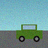vehicle: (16, 24, 42, 42)
